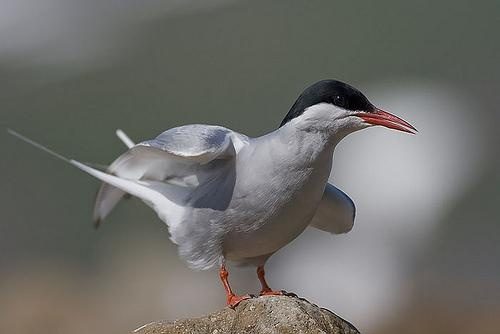bird: (1, 76, 420, 313)
